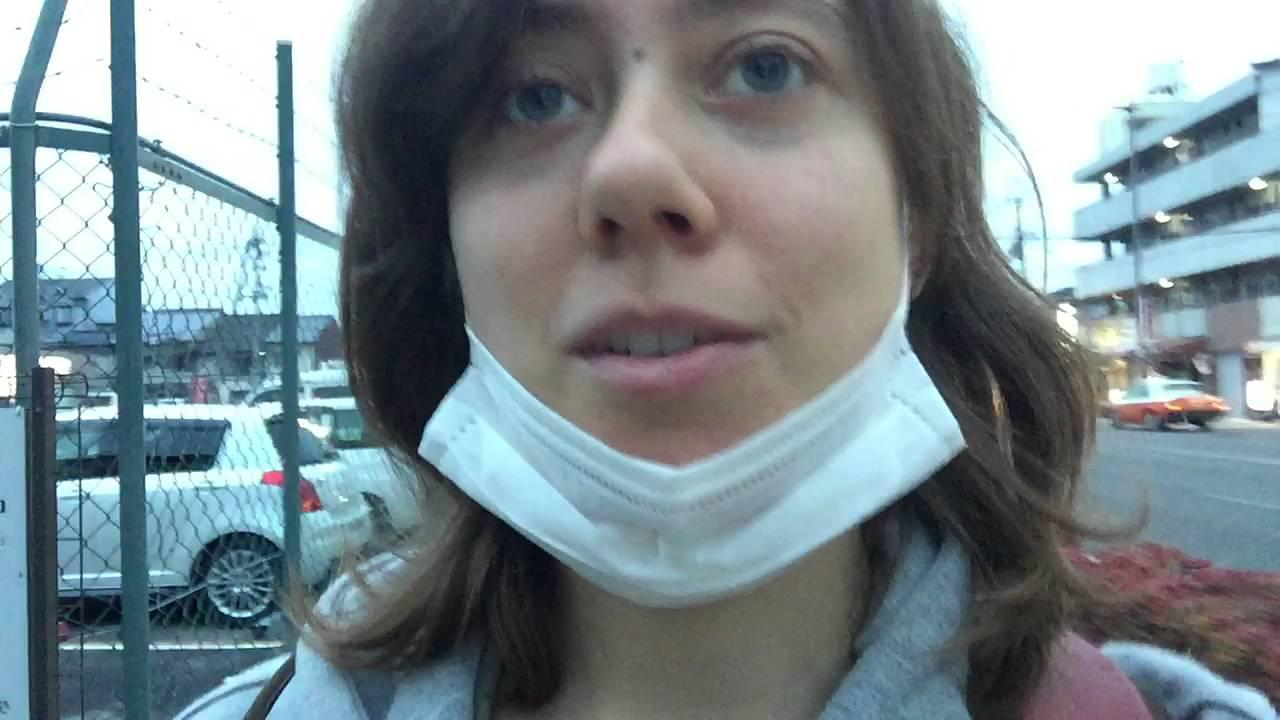mask_weared_incorrect: (469, 23, 851, 546)
